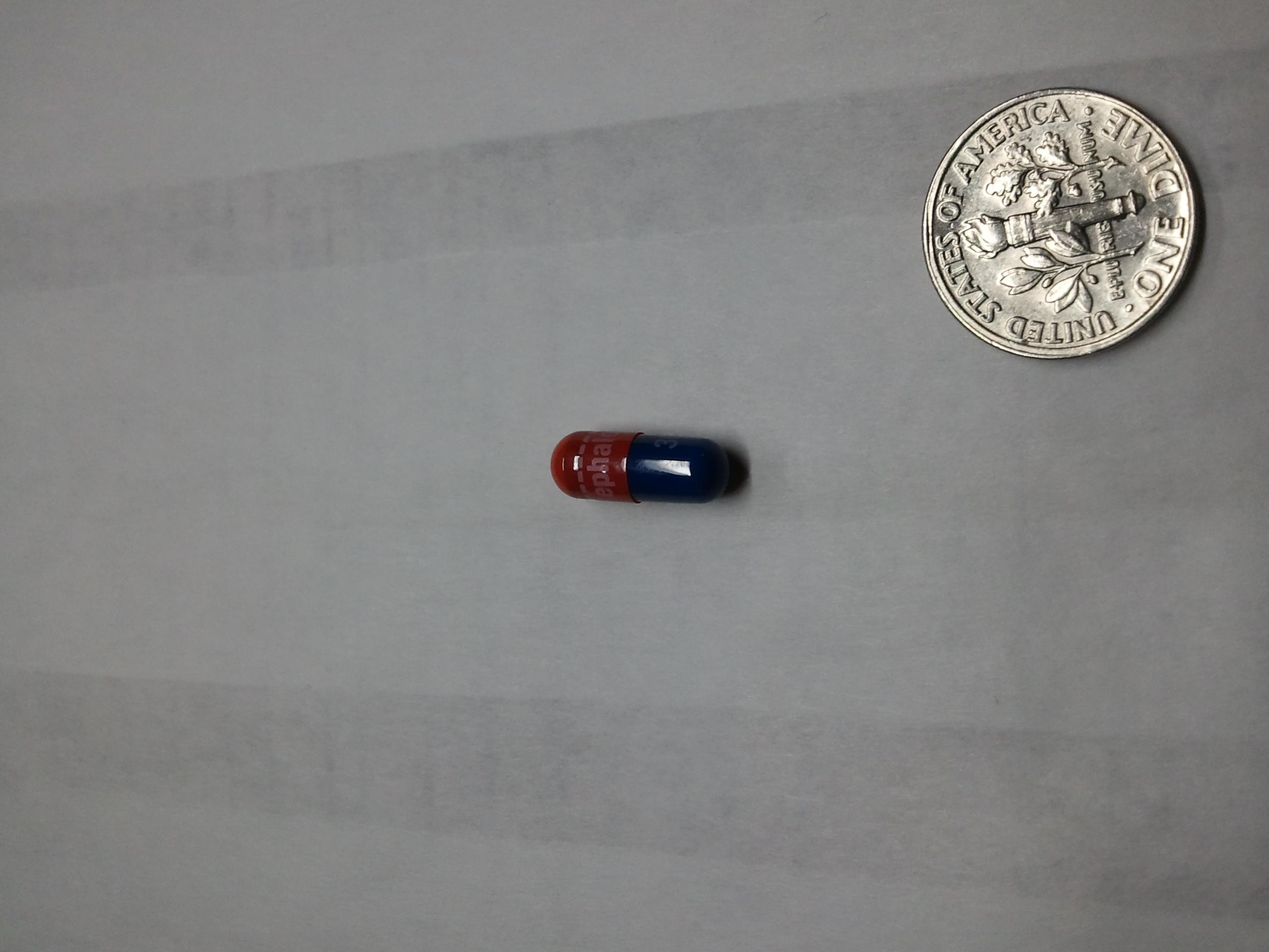Pill: (539, 418, 748, 524)
